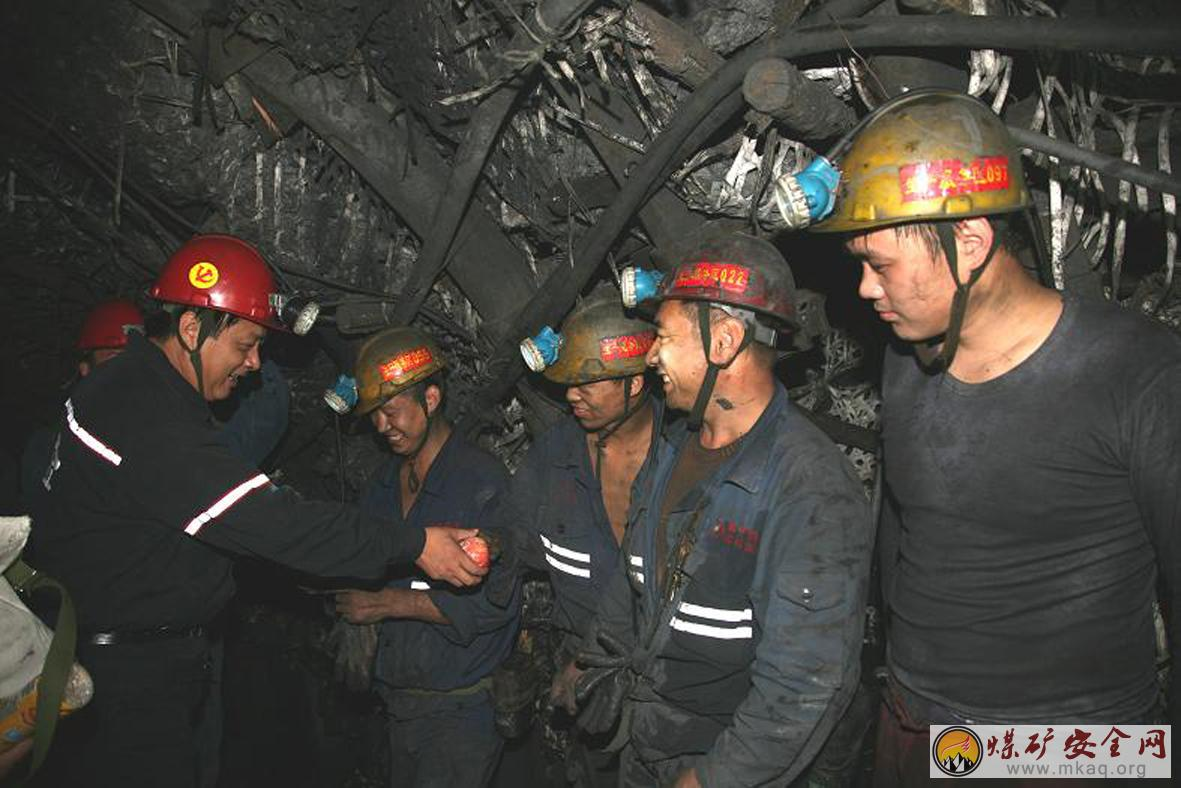helmet: (814, 96, 1050, 343), (633, 225, 804, 436), (135, 228, 304, 400), (335, 327, 451, 472)
